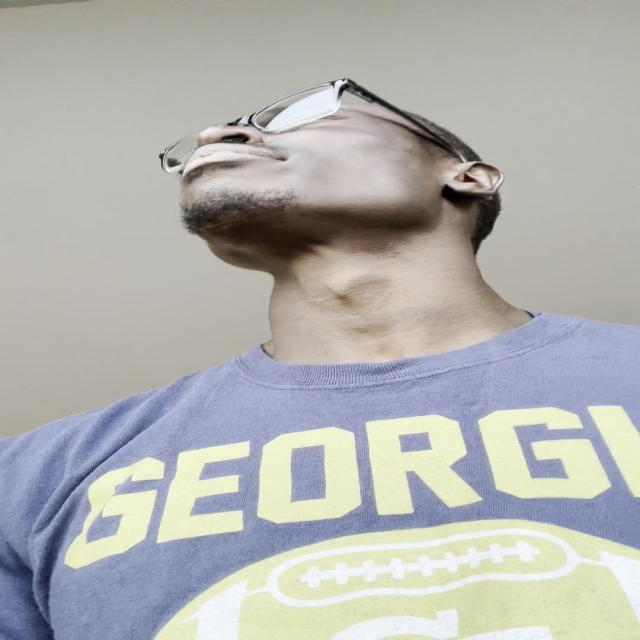NO-Mask: (160, 90, 476, 266)
